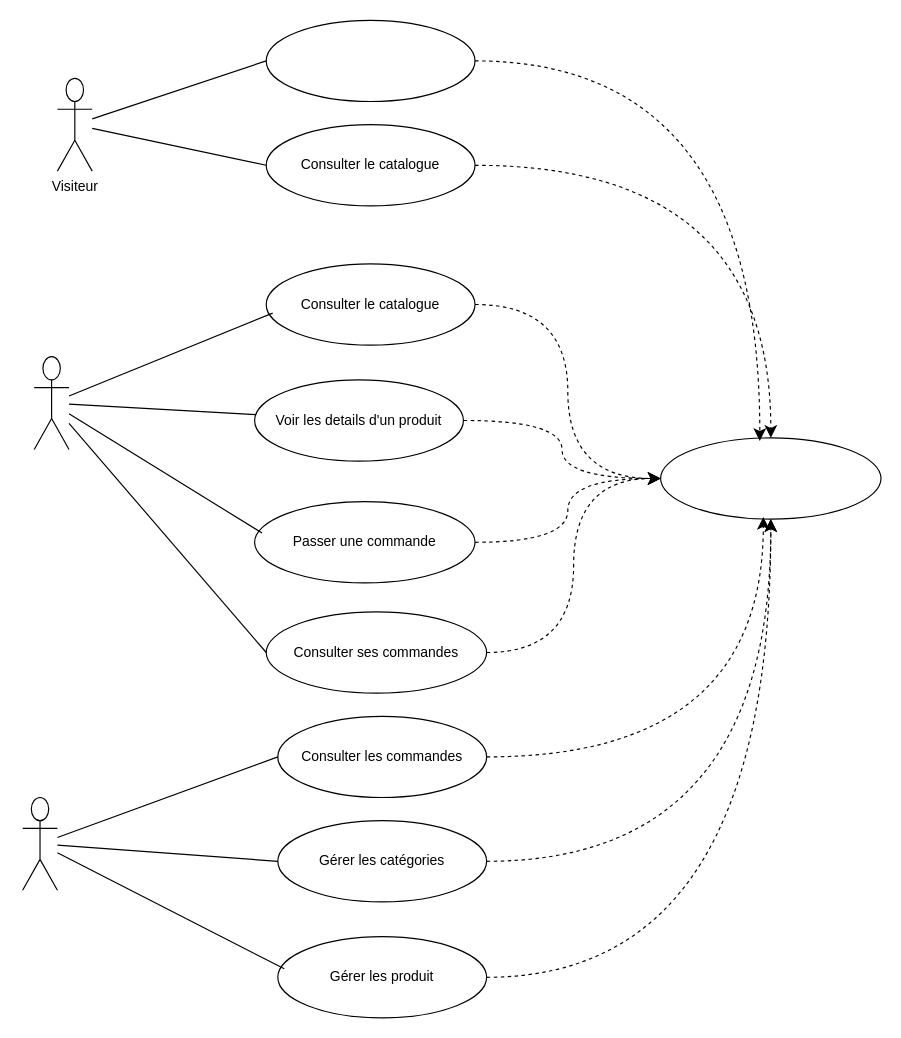
The diagram is 901 pixels wide and 1038 high, and some of its shapes have lost their labels. Here are the shapes that lost their labels. From the top down, the box of each, then its label:
(265, 19, 475, 102): S'inscrire
(33, 356, 69, 449): Client
(659, 437, 881, 519): Authentification
(21, 796, 57, 890): Admin
